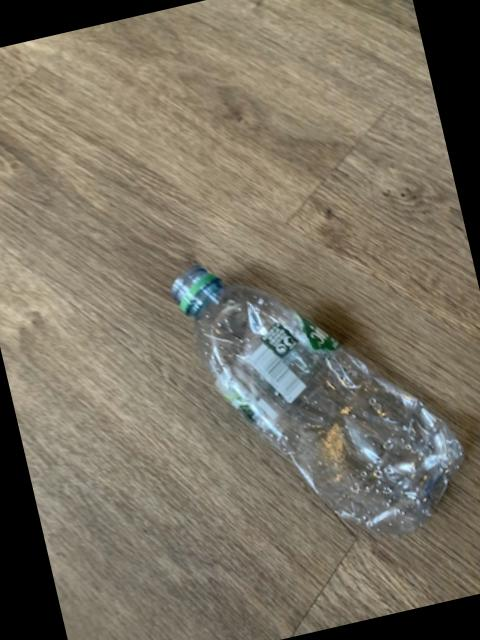plastic: (172, 263, 464, 531)
